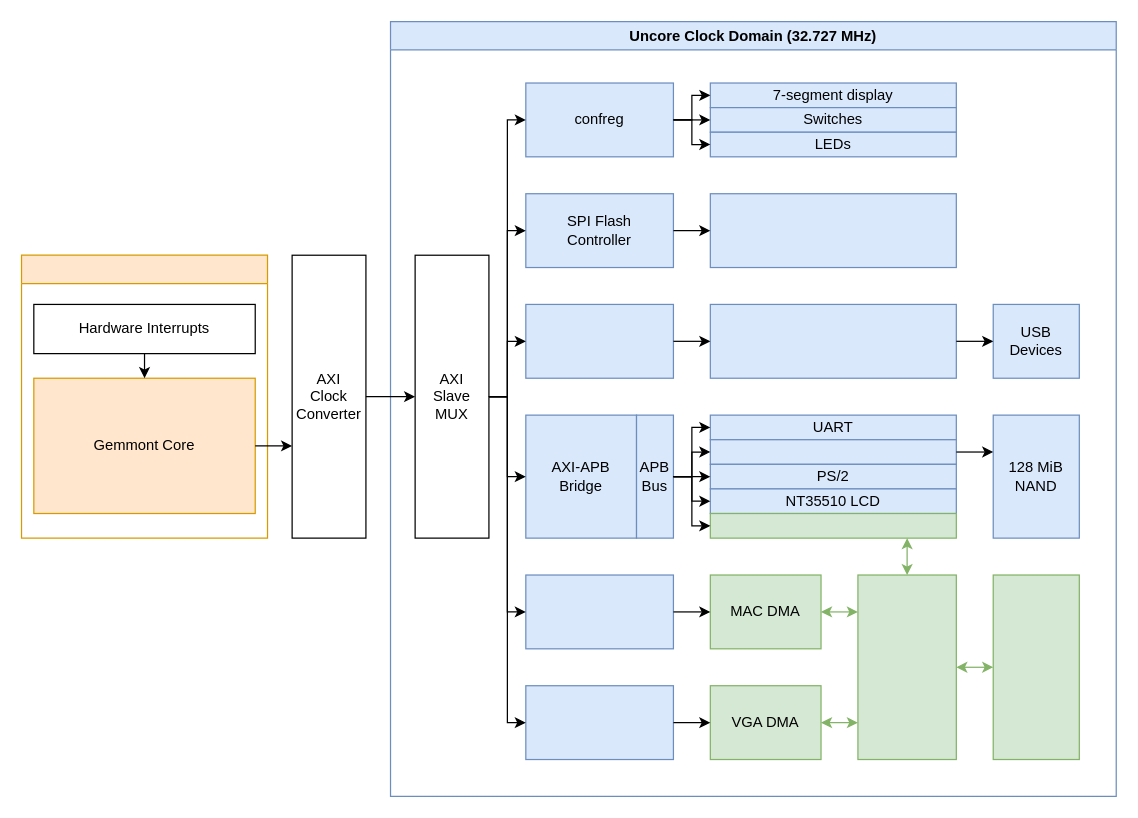
This 1138x818 diagram has some shape labels left out. The shapes that lost their labels are listed below. From the top down, each one's box as (x1, y1, x2, y2) in pixels, then its label:
(709, 192, 956, 268): Firmware (U-Boot)
(525, 303, 673, 378): UE11 USB Host USB 1.1 FS hot-plug
(709, 303, 956, 378): USB3500 UTMI PHY
(20, 254, 268, 538): CPU Clock Domain (107.69 MHz)
(709, 438, 956, 464): NAND Controller
(709, 512, 956, 538): APB DMA
(525, 574, 673, 649): DMFE Ethernet MAC
(857, 574, 956, 760): DDR AXI Interconnect
(992, 574, 1079, 760): DDR3 DRAM 128 MiB
(525, 684, 673, 760): AXI TFT / VGA
